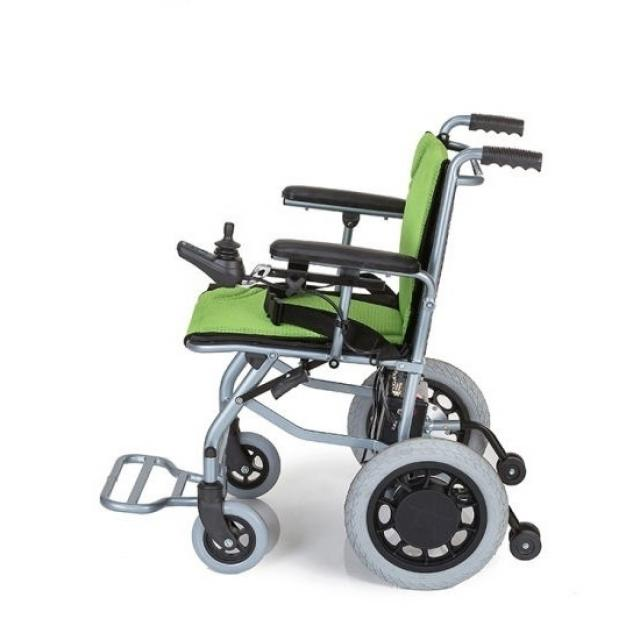wheelchair: (86, 97, 560, 586)
